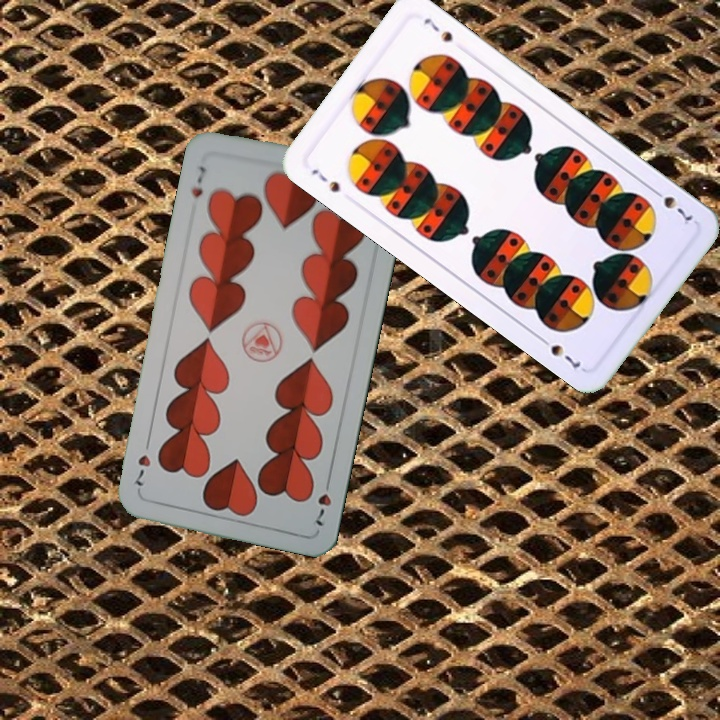H7: (311, 473, 334, 529), (187, 161, 210, 201)
S7: (647, 184, 695, 228), (307, 164, 343, 195)
